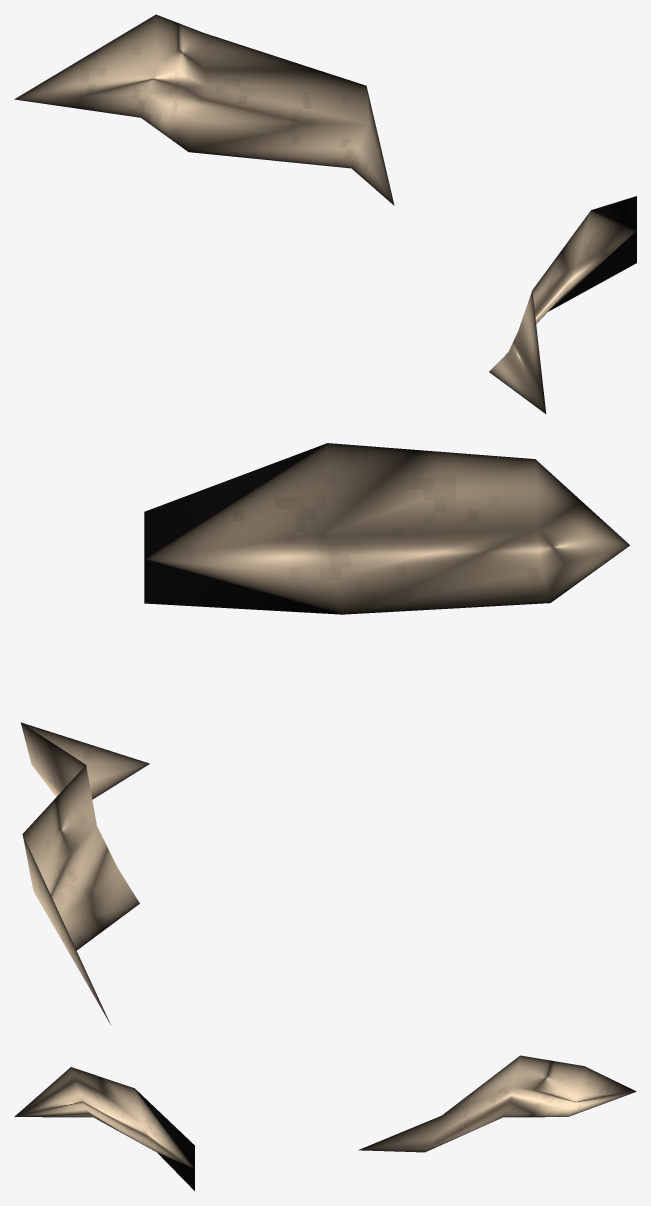
Rendered from test-static_dust.glb.
The picture shows the model from 3 angles, top to bottom: view 1: azimuth 30°, elevation 25°; view 2: azimuth 150°, elevation 25°; view 3: azimuth 270°, elevation 25°; orthographic projection. The views are drawn at different scales.
Parts seen in each view (by area): view 1: dust; view 2: dust; view 3: dust.
Part boxes in pixels (left/top/right/bottom): dust: left=14, top=14, right=636, bottom=413; dust: left=20, top=443, right=629, bottom=1024; dust: left=14, top=1055, right=636, bottom=1190.
Bounding box in the file's own units: 59.6 × 20.35 × 157.
Materials: 1 (1 with a texture image).
